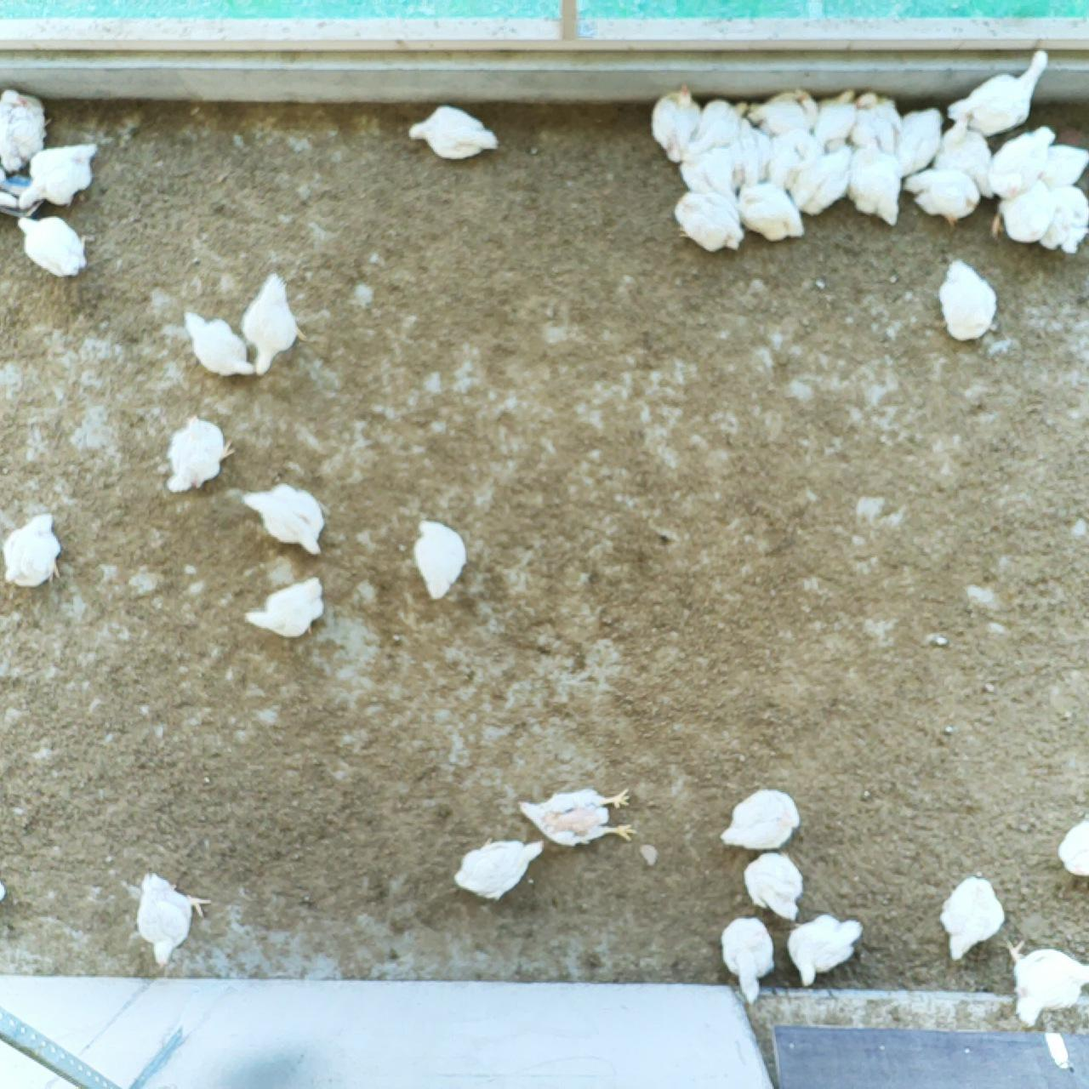chicken: (944, 47, 1052, 138), (132, 867, 213, 970), (1002, 935, 1089, 1030), (516, 782, 639, 847), (238, 267, 309, 379), (239, 481, 332, 558), (162, 412, 239, 501), (449, 834, 547, 903), (784, 911, 865, 989), (237, 574, 328, 643), (938, 874, 1008, 962), (718, 784, 804, 853), (181, 305, 258, 381), (936, 254, 1000, 345), (933, 111, 998, 200), (407, 101, 500, 162), (17, 141, 98, 211), (718, 914, 777, 1008), (985, 124, 1057, 201), (0, 510, 66, 592), (15, 214, 95, 280), (412, 514, 470, 605), (903, 166, 981, 229), (672, 189, 746, 255), (0, 86, 54, 176), (785, 144, 852, 216), (741, 850, 805, 924), (990, 176, 1056, 246), (851, 137, 901, 229), (649, 83, 702, 164), (736, 182, 806, 243), (1037, 184, 1089, 255), (687, 97, 749, 155), (679, 141, 738, 200), (768, 129, 824, 191), (897, 106, 944, 178), (746, 88, 817, 134), (729, 114, 772, 188), (850, 90, 902, 151), (811, 89, 858, 154), (1036, 141, 1089, 191), (1055, 815, 1089, 880)
